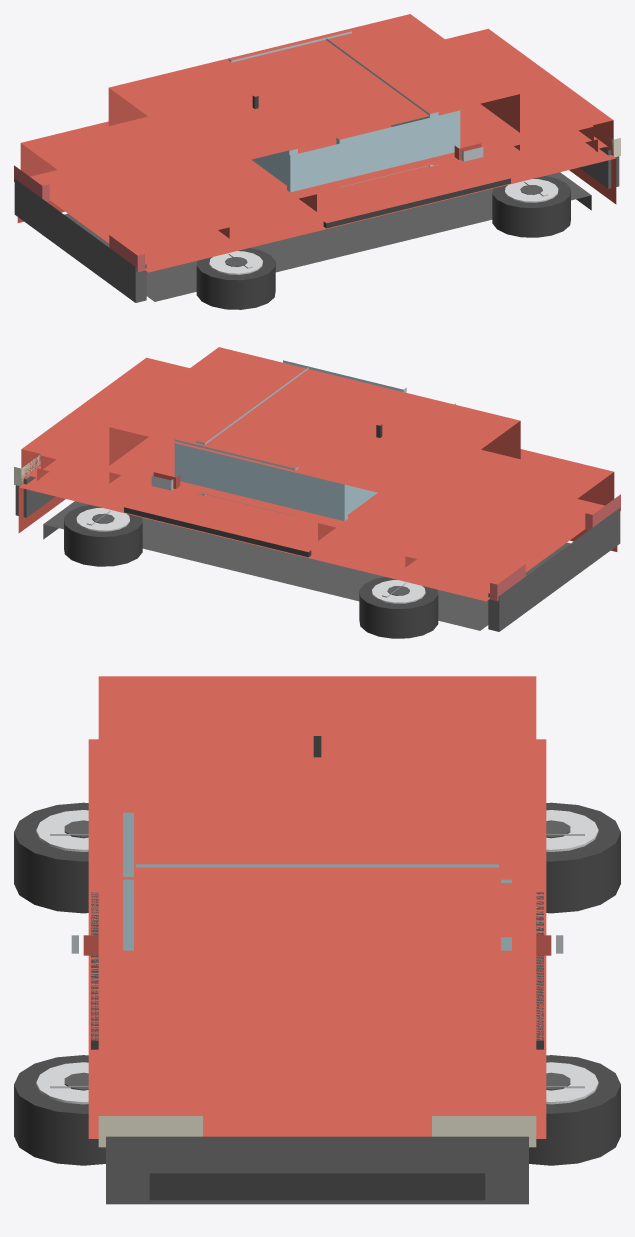
File: car_red.glb
3 views of the same model, one above another, from view 1: azimuth 30°, elevation 25°; view 2: azimuth 150°, elevation 25°; view 3: azimuth 270°, elevation 25° (orthographic). The views are drawn at different scales.
Bounding box in the file's own units: 3.94 × 1.13 × 2.44.
